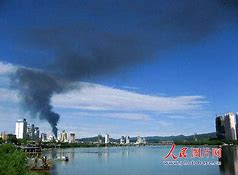smoke: (13, 66, 60, 133)
